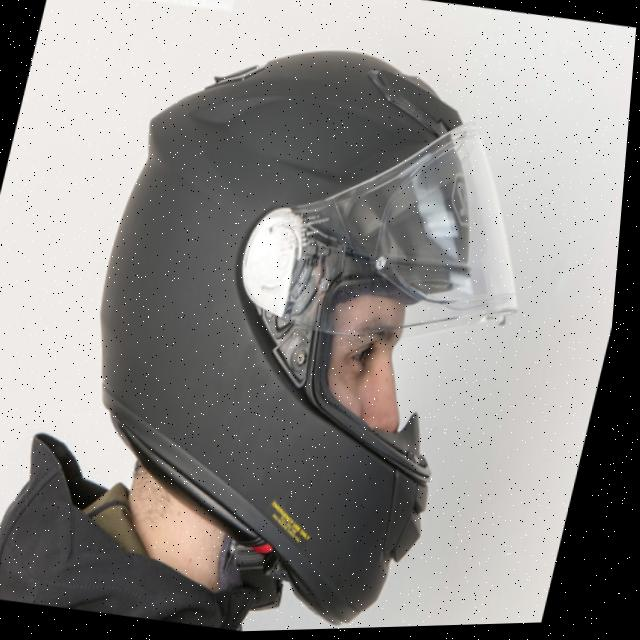helmet: (25, 0, 591, 638)
